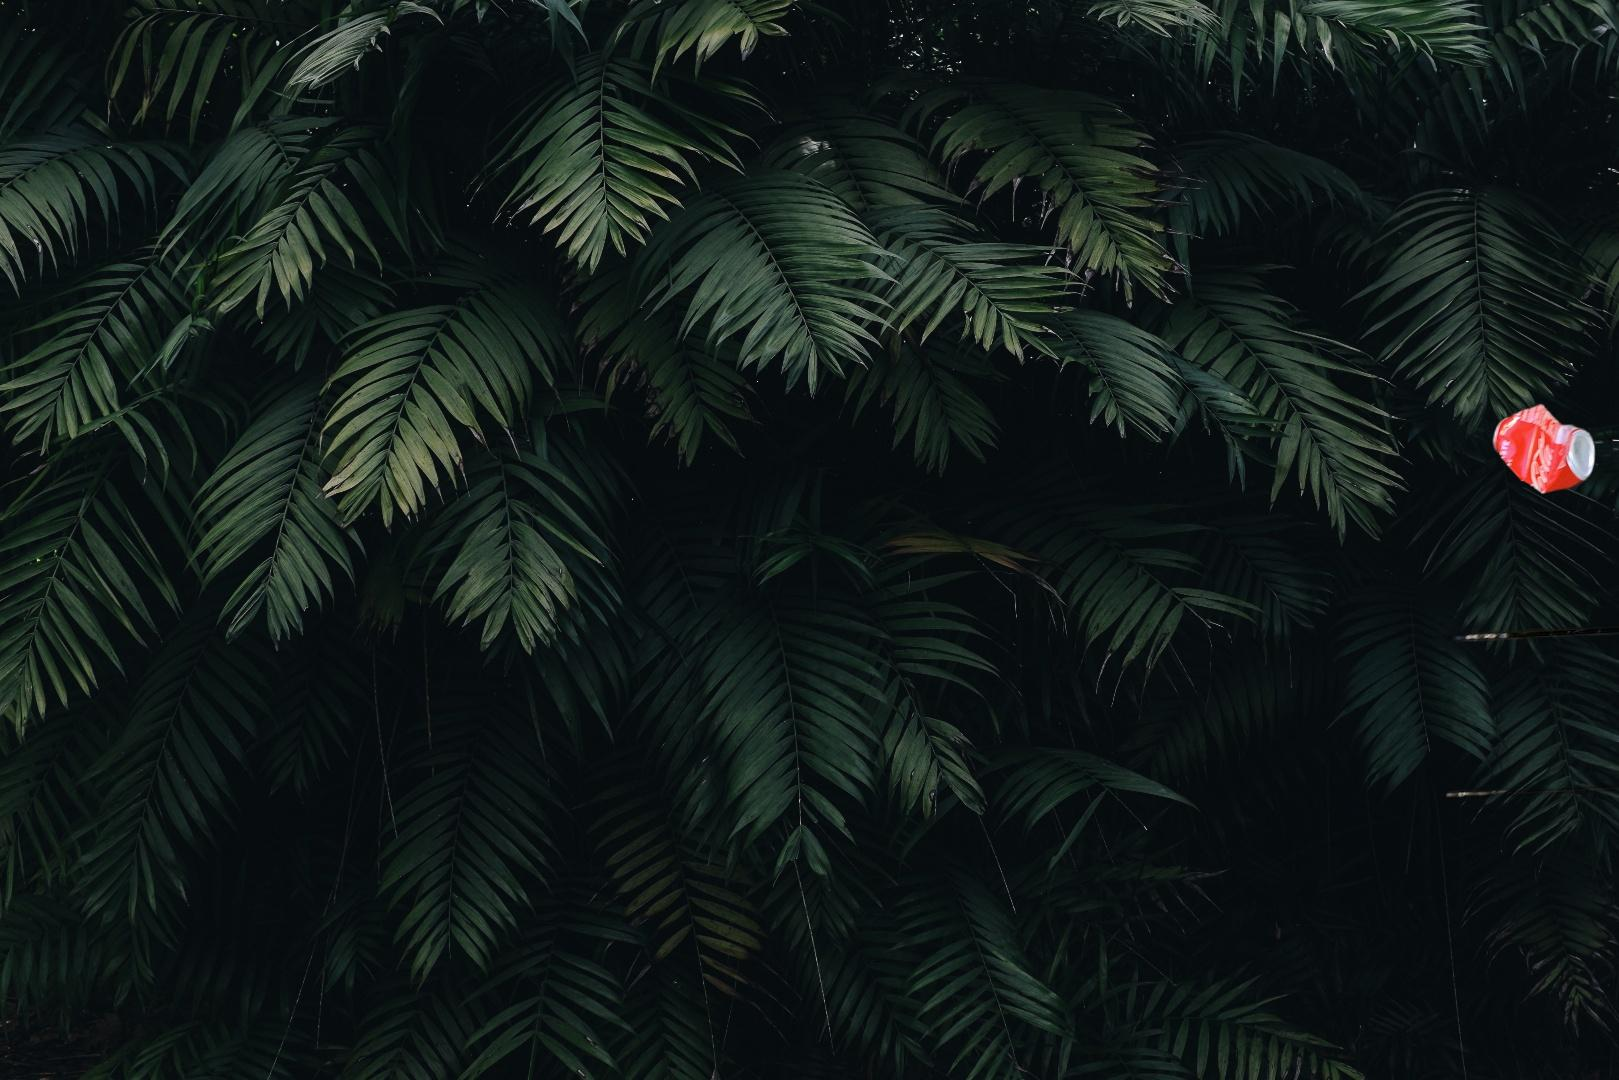metal-cans: (1350, 398, 1619, 861)
